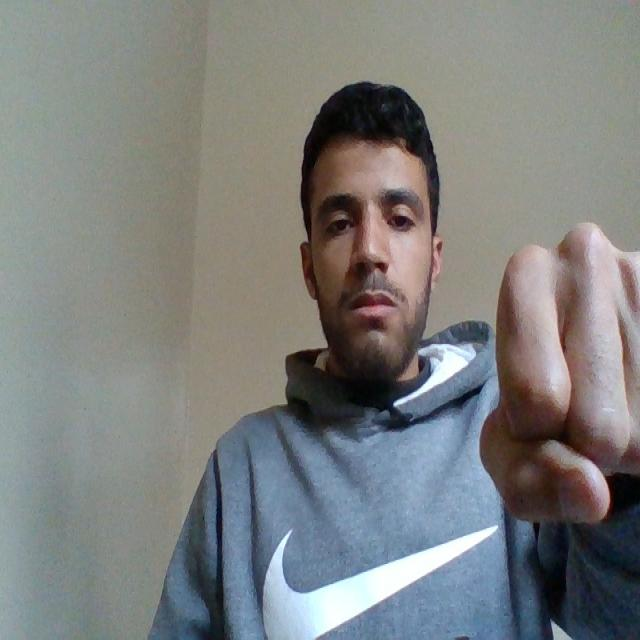No: (477, 220, 639, 520)
